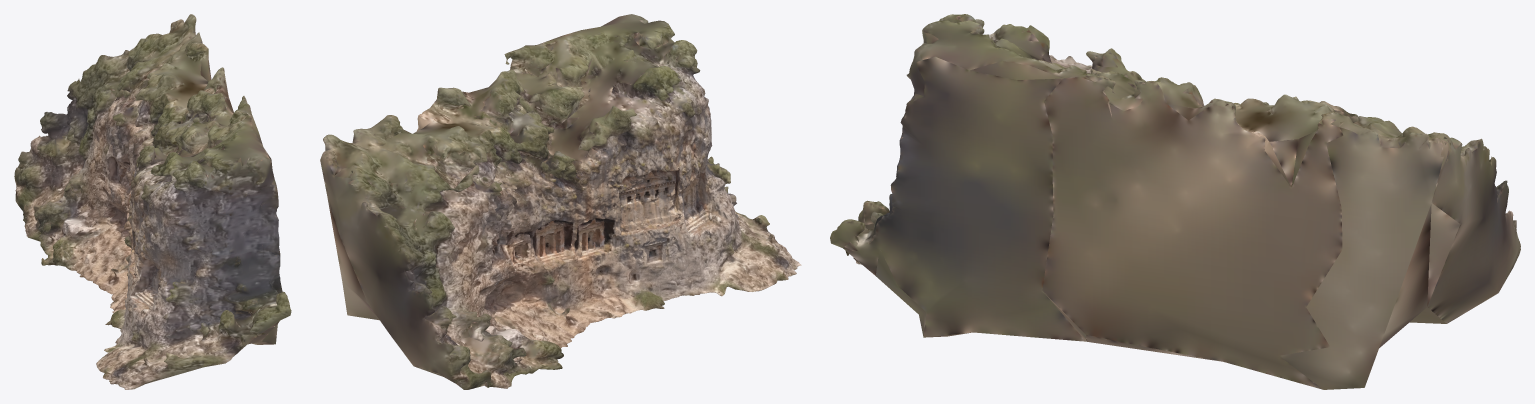
The model's file is aajanta_caves.glb.
3 views of the same model, side by side, from view 1: azimuth 30°, elevation 25°; view 2: azimuth 150°, elevation 25°; view 3: azimuth 270°, elevation 25° (orthographic). The views are drawn at different scales.
Visible parts, largest first — view 1: meshNode, meshNode_Material_u1_v1_0.002, meshNode_Material_u1_v1_0.001; view 2: meshNode, meshNode_Material_u1_v1_0.001, meshNode_Material_u1_v1_0.002; view 3: meshNode, meshNode_Material_u1_v1_0.002.
Part boxes in pixels (bbox=[...]): meshNode: bbox=[14, 14, 291, 389]; meshNode_Material_u1_v1_0.002: bbox=[57, 51, 282, 344]; meshNode_Material_u1_v1_0.001: bbox=[110, 130, 184, 325]; meshNode: bbox=[320, 14, 801, 389]; meshNode_Material_u1_v1_0.001: bbox=[486, 141, 726, 305]; meshNode_Material_u1_v1_0.002: bbox=[398, 74, 729, 347]; meshNode: bbox=[830, 14, 1520, 389]; meshNode_Material_u1_v1_0.002: bbox=[843, 79, 1361, 340].
Bounding box in the file's own units: 15.49 × 11.71 × 25.23.
Materials: 1 (1 with a texture image).
